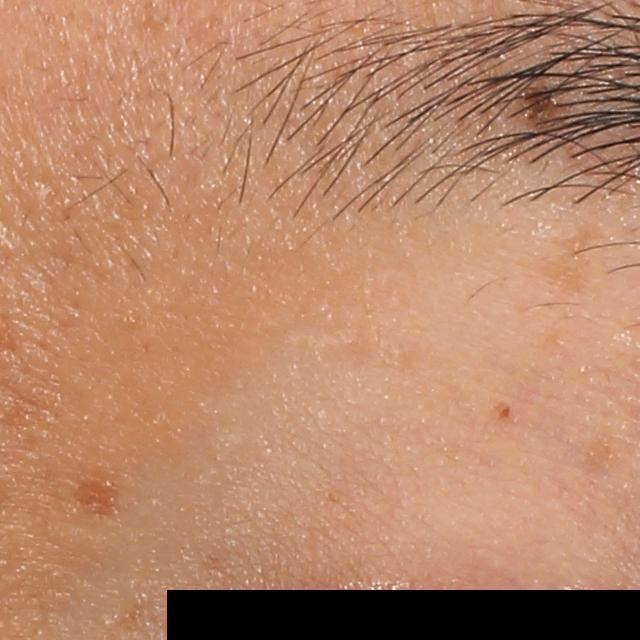melasma: (536, 219, 611, 301), (72, 465, 116, 516), (577, 435, 629, 474)
